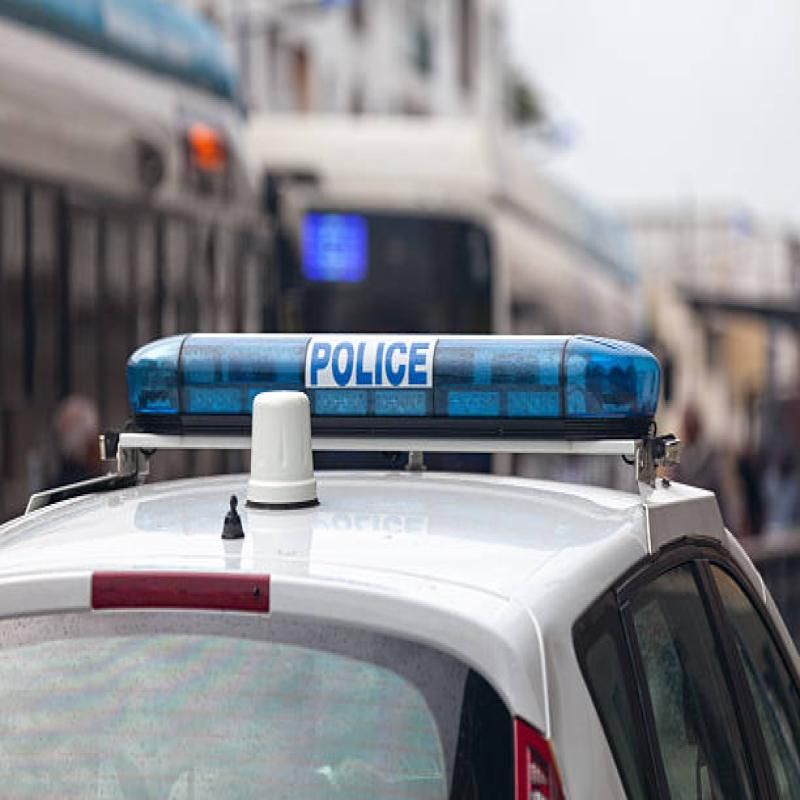AmbulanceSiren: (122, 303, 641, 473)
